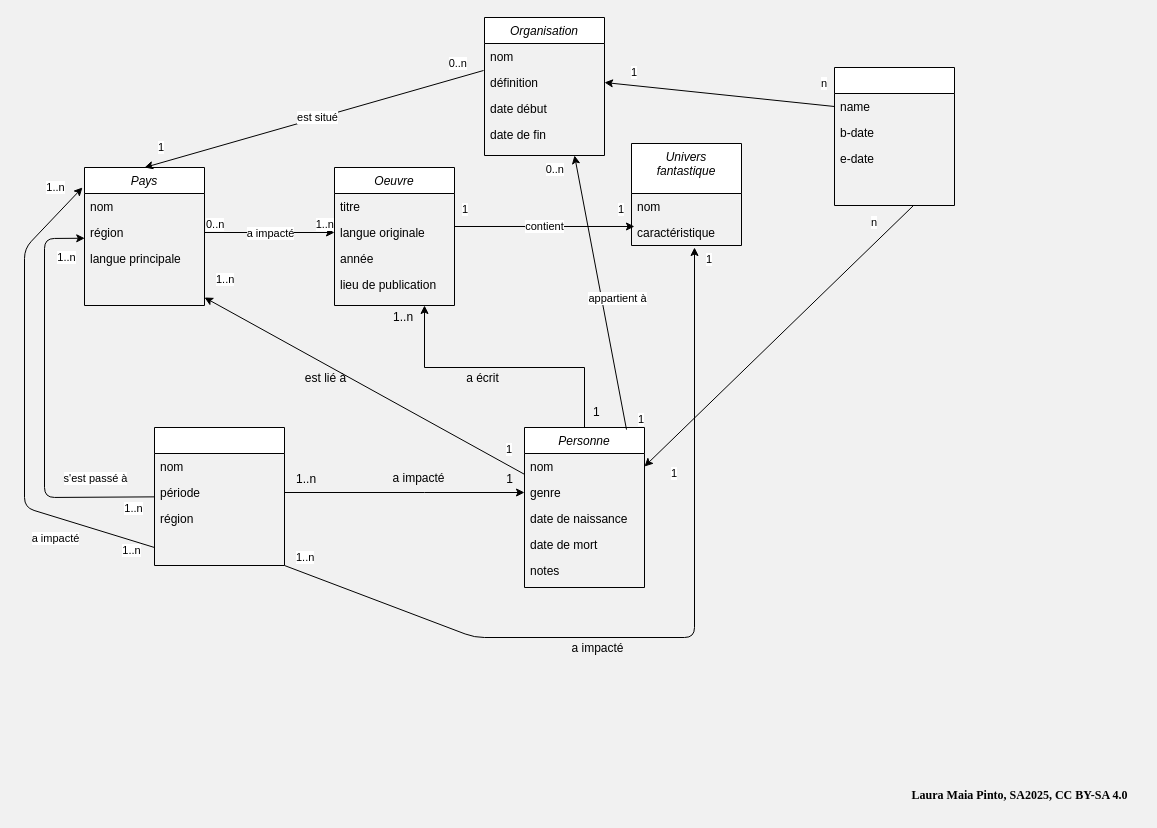
This 1157x828 diagram has some shape labels left out. The box of each missing label's shape, as (x1, y1, x2, y2) in pixels:
Evénement historique: (154, 426, 284, 566)
Membership: (834, 66, 954, 206)
